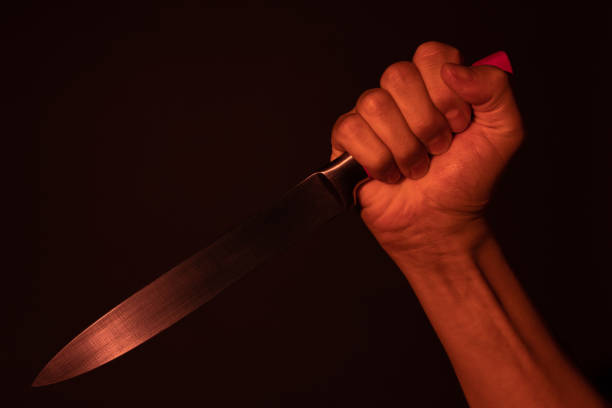knife: (28, 47, 515, 390)
